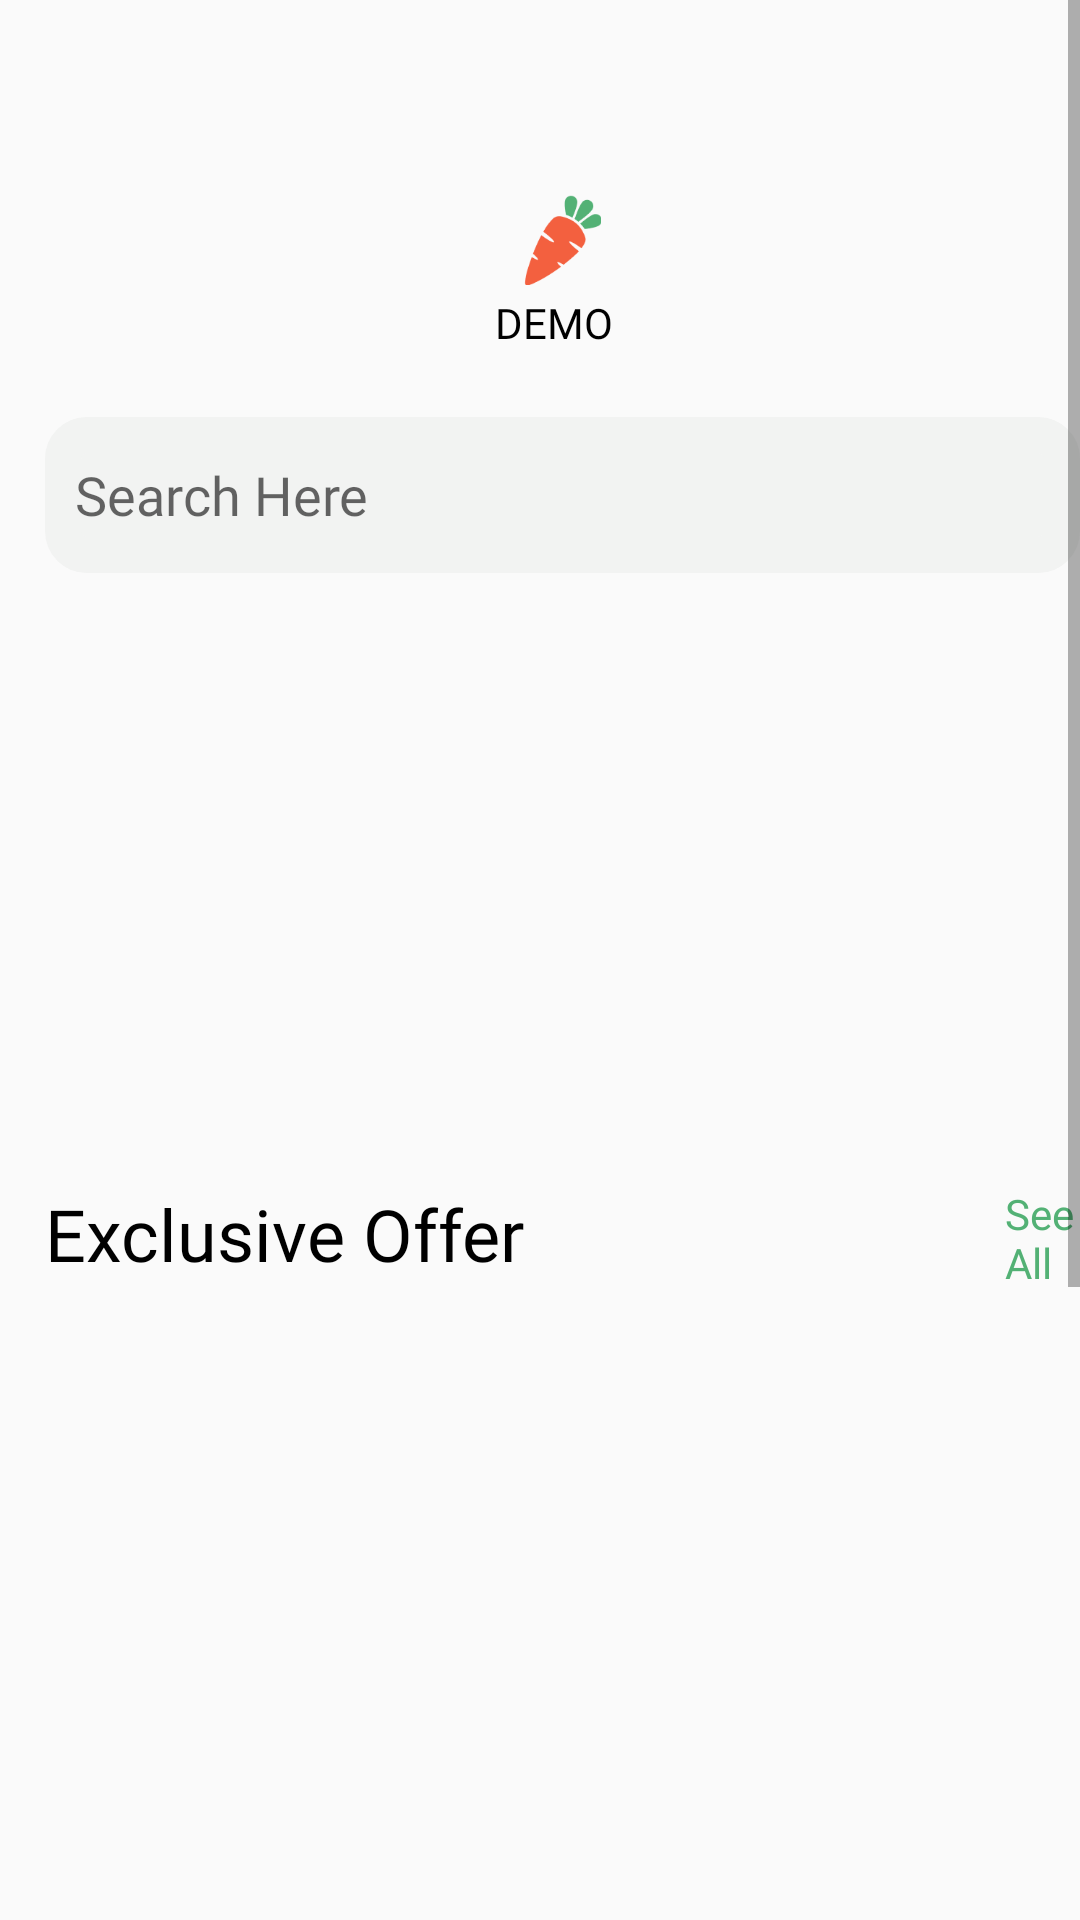

Screen size 1080 × 1920. Icon name, then its center in pixels as (x,y):
carrot: (563,240)
